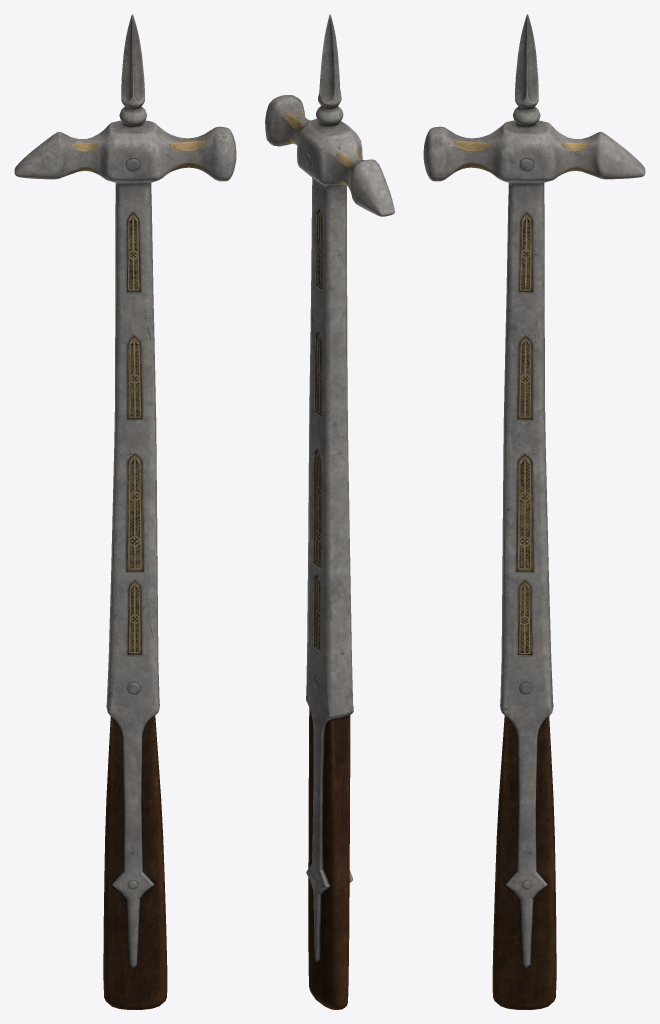
The model's file is warhammer.glb.
The picture shows the model from 3 angles, left to right: view 1: azimuth 90°, elevation 25°; view 2: azimuth 210°, elevation 25°; view 3: azimuth 270°, elevation 25°; orthographic projection.
Parts seen in each view (by area): view 1: warhammer; view 2: warhammer; view 3: warhammer.
Part boxes in pixels (x1,y1,x2,y2): warhammer: (14, 14, 236, 1009); warhammer: (265, 14, 394, 1009); warhammer: (423, 14, 645, 1009).
Size of the model in its own units: 0.0766 by 1.56 by 0.3171.
Materials: 1 (1 with a texture image).
